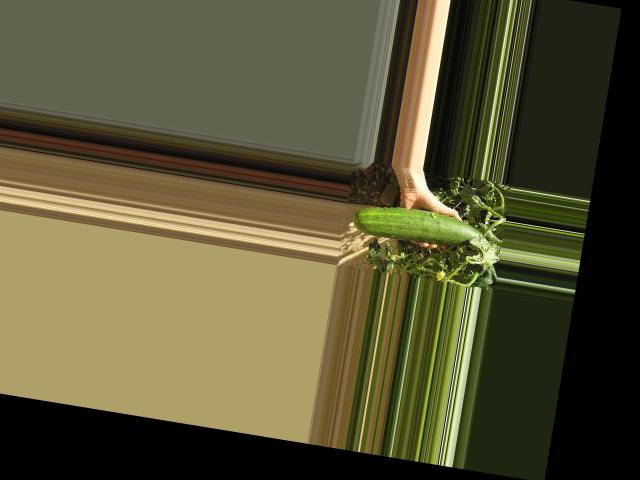cucumber: (351, 199, 487, 253)
